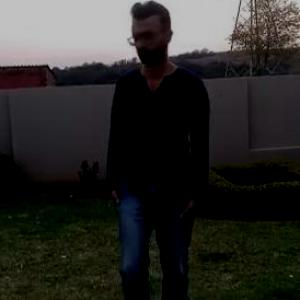follow: (95, 0, 215, 299)
